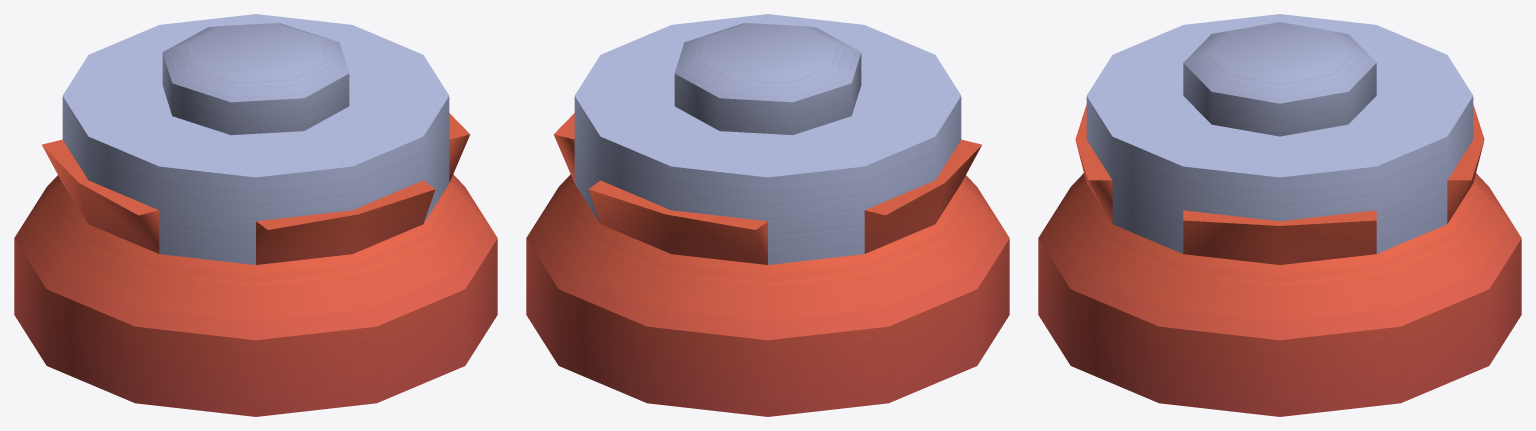
Rendered from tower-round-bottom-c.glb.
3 views of the same model, side by side, from view 1: azimuth 30°, elevation 25°; view 2: azimuth 150°, elevation 25°; view 3: azimuth 270°, elevation 25° (orthographic).
Visible parts, largest first — view 1: tower-round-bottom-c; view 2: tower-round-bottom-c; view 3: tower-round-bottom-c.
Boxes of the visible parts, <box> form: tower-round-bottom-c: <box>14,14,497,416</box>; tower-round-bottom-c: <box>526,14,1009,416</box>; tower-round-bottom-c: <box>1038,14,1521,416</box>.
Size of the model in its own units: 3 by 1.8 by 3.
Materials: 1 (1 with a texture image).
